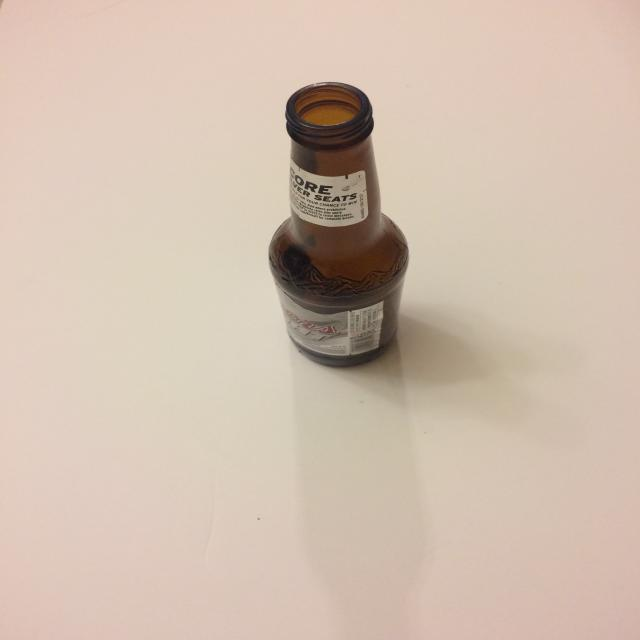glass: (266, 81, 409, 367)
